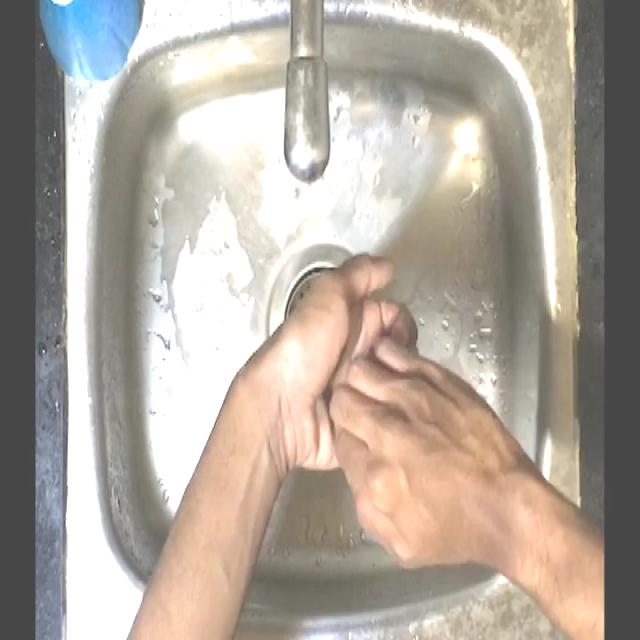step_4: (272, 242, 501, 522)
